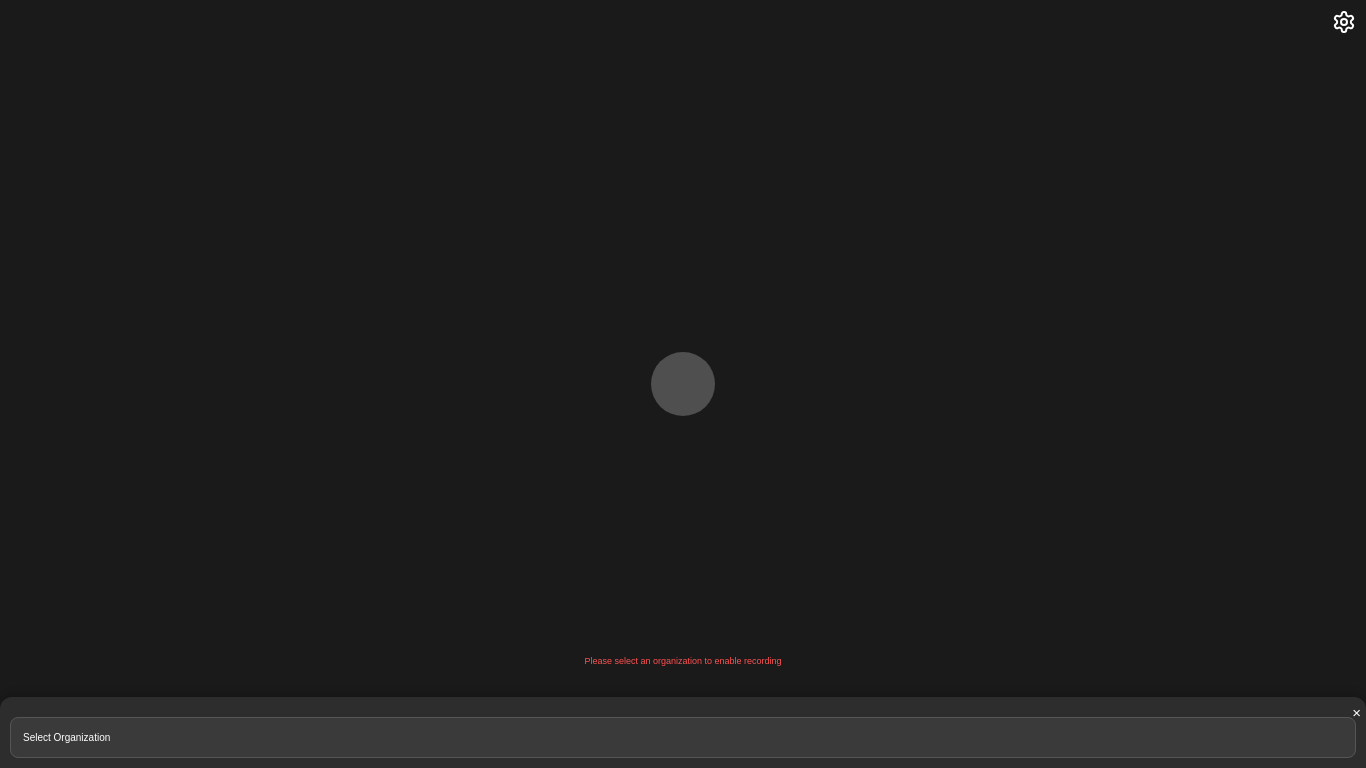
it: AudioRecorder › shows validation message when no boards are available
Note: Select the empty organization
Step 1. Select "Empty Organization" in the dropdown → coordinates (683, 738), box [10, 717, 1356, 758]
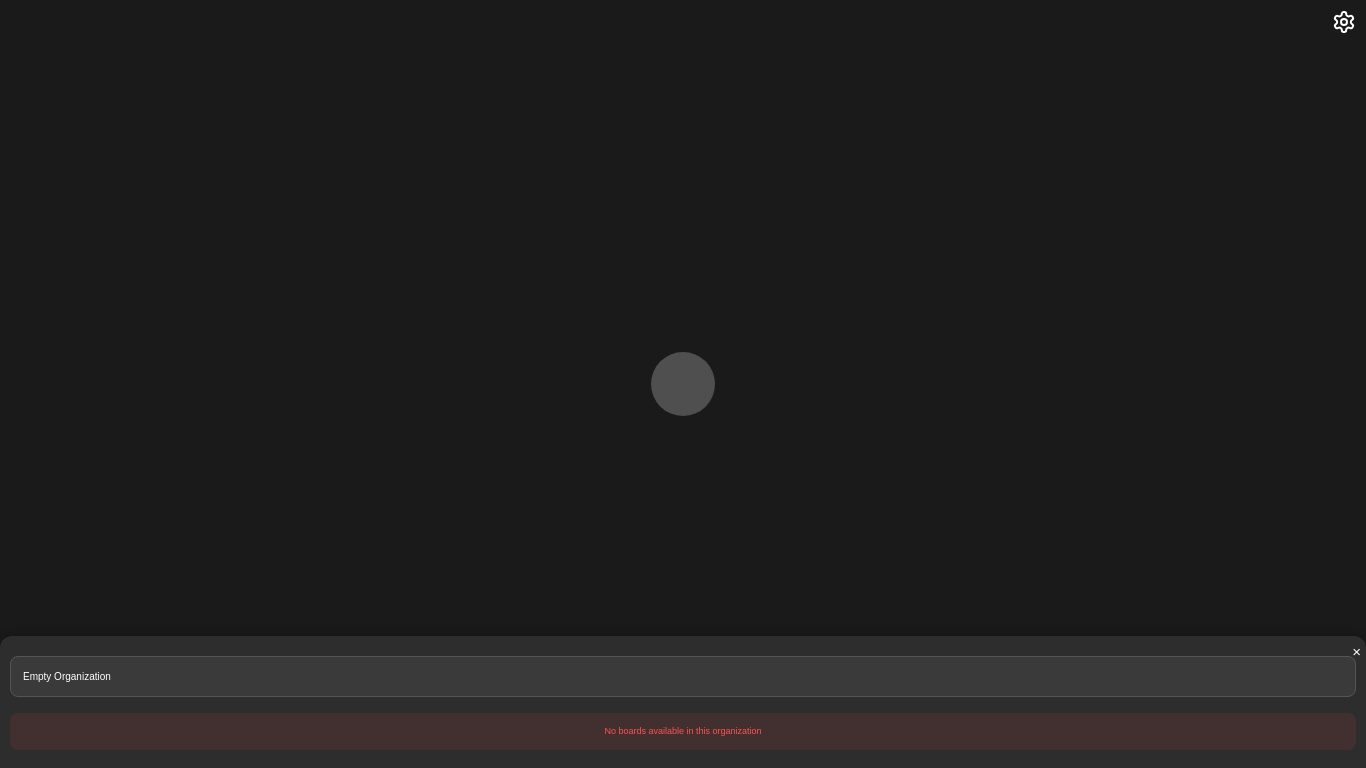
Now the text "No boards available in this organization" is shown, box [10, 712, 1356, 750]
